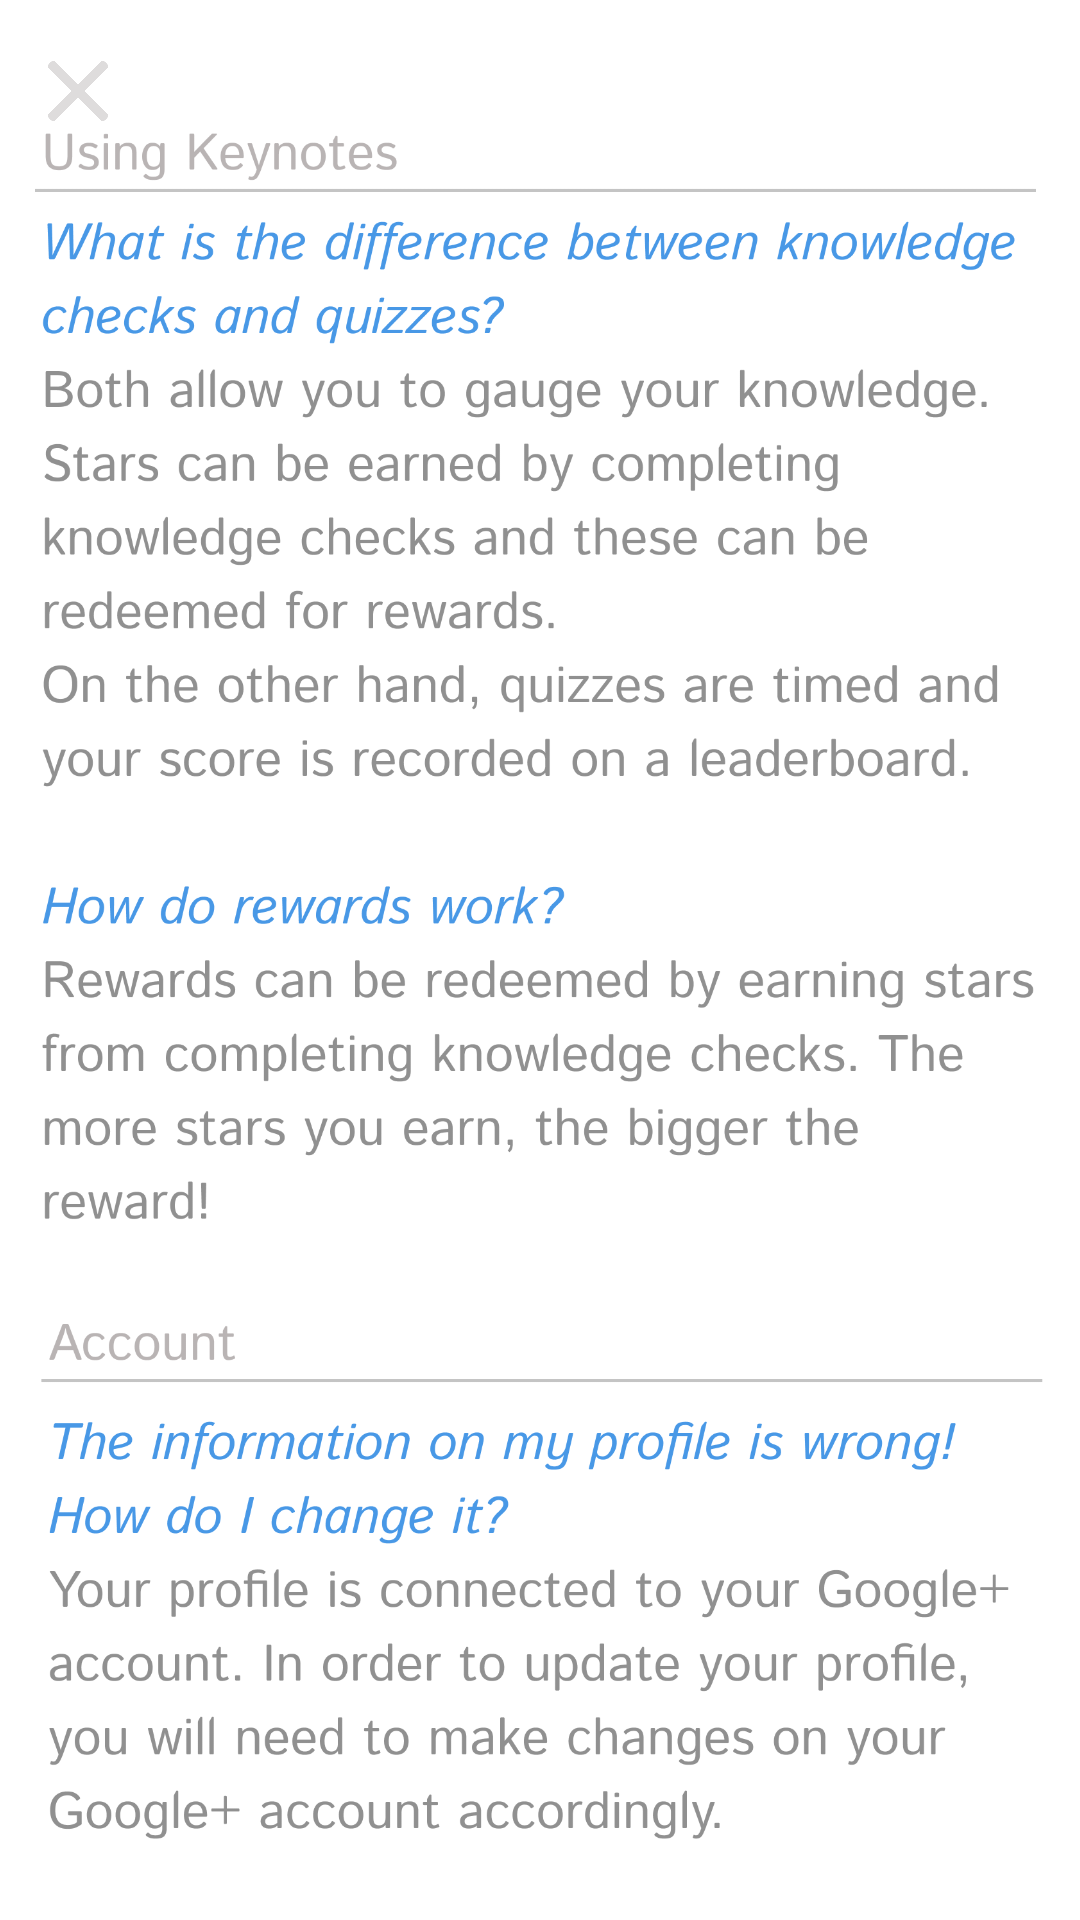

Icon click points for this 1080 x 1920 phone screenshot, format (x=x, y=y):
cancel: (x=78, y=91)
